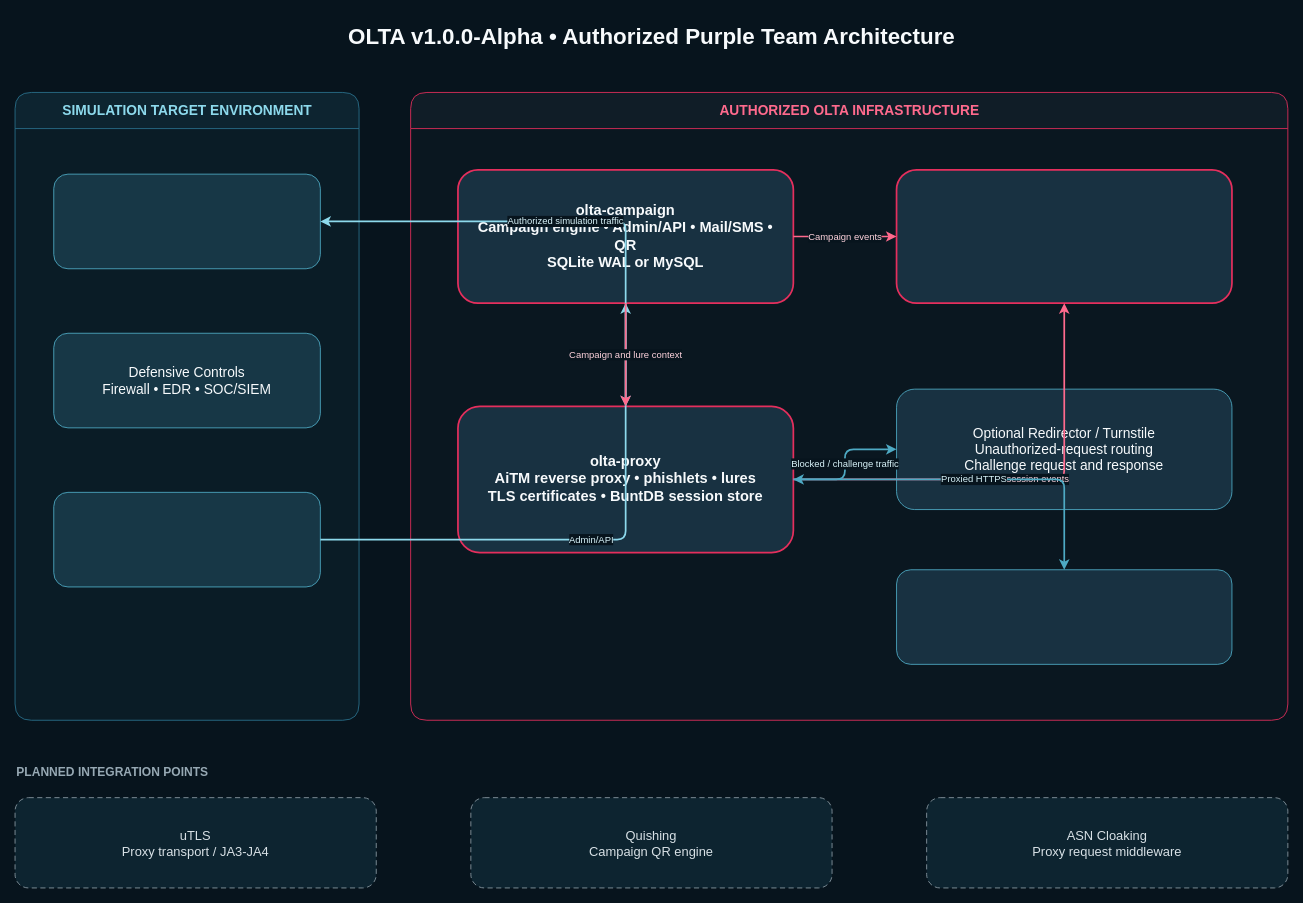
The diagram is 1303 pixels wide and 903 high, and some of its shapes have lost their labels. Each missing label, with the centre of its shape:
Authorized Operator Campaign administration and monitoring: [186,539]
Legitimate Origin Website Upstream content and authentication: [1064,616]
olta-feed WebSocket live event stream Bounded per-client queue • Browser UI: [1063,236]
Target Devices Browser • Mobile • Mail Client: [186,221]
